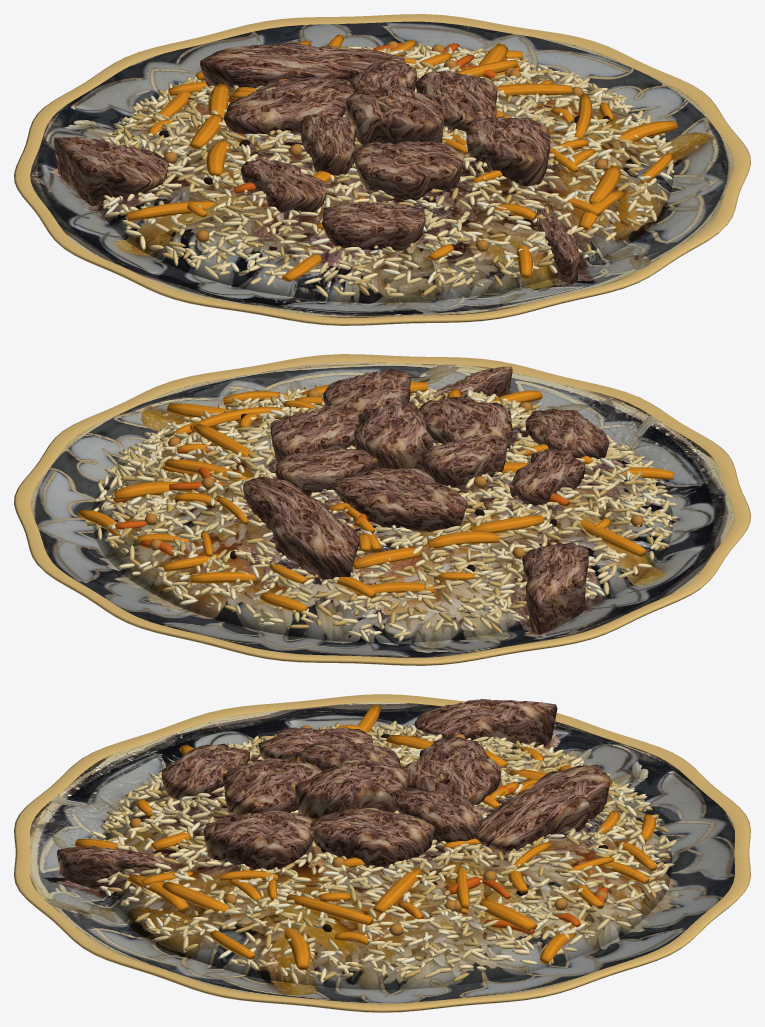
Rendered from toyosh.glb.
The picture shows the model from 3 angles, top to bottom: view 1: azimuth 30°, elevation 25°; view 2: azimuth 150°, elevation 25°; view 3: azimuth 270°, elevation 25°; orthographic projection.
Parts seen in each view (by area): view 1: 01_Handpainted_Porcelain_Lagan, 05_Slow_Cooked_Meat_Pieces, 03_Individual_Long_Grain_Rice, 02_Rice_Interior, 04_Braised_Yellow_and_Orange_Carrots, 09_Additional_Surface_Rice, 08_Chickpeas_Raisins_and_Cumin, 06_Torn_Meat_Fibers; view 2: 01_Handpainted_Porcelain_Lagan, 05_Slow_Cooked_Meat_Pieces, 03_Individual_Long_Grain_Rice, 02_Rice_Interior, 04_Braised_Yellow_and_Orange_Carrots, 09_Additional_Surface_Rice, 08_Chickpeas_Raisins_and_Cumin, 06_Torn_Meat_Fibers; view 3: 01_Handpainted_Porcelain_Lagan, 05_Slow_Cooked_Meat_Pieces, 02_Rice_Interior, 03_Individual_Long_Grain_Rice, 04_Braised_Yellow_and_Orange_Carrots, 09_Additional_Surface_Rice, 08_Chickpeas_Raisins_and_Cumin, 06_Torn_Meat_Fibers.
Part boxes in pixels (<box>): 01_Handpainted_Porcelain_Lagan: <box>14,14,750,325</box>; 05_Slow_Cooked_Meat_Pieces: <box>53,43,579,284</box>; 03_Individual_Long_Grain_Rice: <box>100,42,674,297</box>; 02_Rice_Interior: <box>96,53,673,302</box>; 04_Braised_Yellow_and_Orange_Carrots: <box>126,34,678,281</box>; 09_Additional_Surface_Rice: <box>99,46,671,285</box>; 08_Chickpeas_Raisins_and_Cumin: <box>158,41,609,251</box>; 06_Torn_Meat_Fibers: <box>72,42,574,250</box>; 01_Handpainted_Porcelain_Lagan: <box>14,354,750,665</box>; 05_Slow_Cooked_Meat_Pieces: <box>243,366,608,634</box>; 03_Individual_Long_Grain_Rice: <box>83,385,678,642</box>; 02_Rice_Interior: <box>92,394,673,642</box>; 04_Braised_Yellow_and_Orange_Carrots: <box>77,382,673,612</box>; 09_Additional_Surface_Rice: <box>98,388,667,629</box>; 08_Chickpeas_Raisins_and_Cumin: <box>145,389,643,584</box>; 06_Torn_Meat_Fibers: <box>262,369,601,588</box>; 01_Handpainted_Porcelain_Lagan: <box>14,694,750,1012</box>; 05_Slow_Cooked_Meat_Pieces: <box>57,699,610,889</box>; 02_Rice_Interior: <box>97,733,672,989</box>; 03_Individual_Long_Grain_Rice: <box>90,720,676,984</box>; 04_Braised_Yellow_and_Orange_Carrots: <box>75,704,657,970</box>; 09_Additional_Surface_Rice: <box>103,721,665,977</box>; 08_Chickpeas_Raisins_and_Cumin: <box>129,725,608,935</box>; 06_Torn_Meat_Fibers: <box>80,700,595,862</box>.
Size of the model in its own units: 0.28 by 0.0503 by 0.2754.
16 materials, 13 textured.
